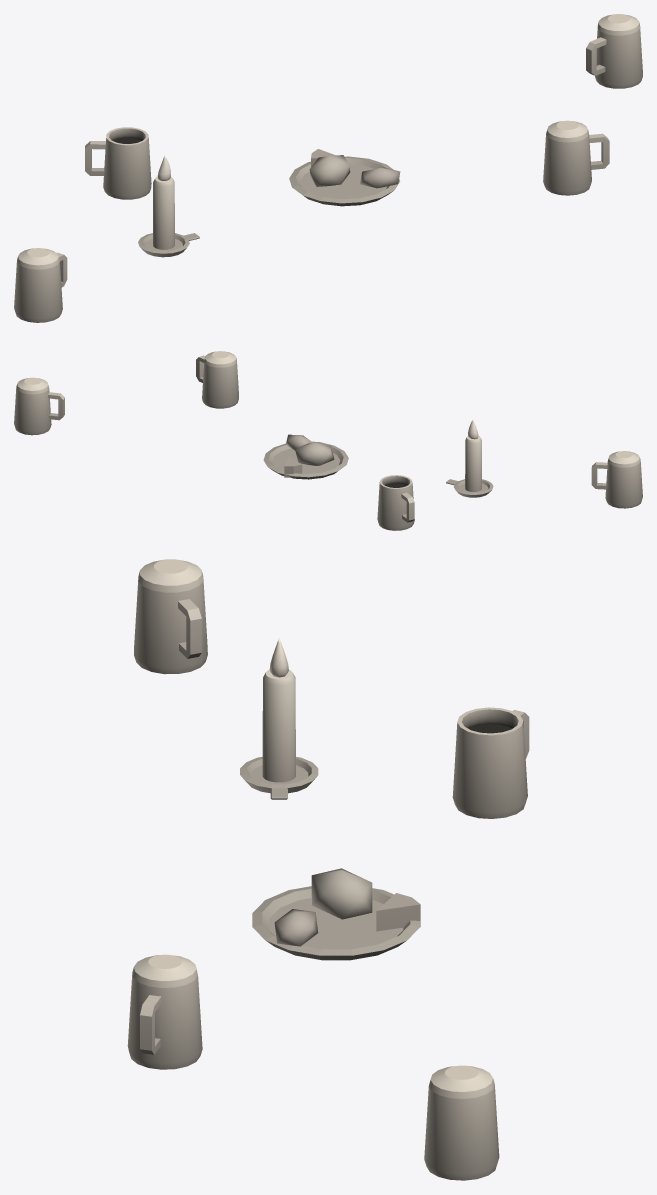
Rendered from SM_VKI_Prop_TableDress_Tavern_A.fbx.
3 renders of one model, top to bottom at view 1: azimuth 30°, elevation 25°; view 2: azimuth 150°, elevation 25°; view 3: azimuth 270°, elevation 25°, orthographic. The views are drawn at different scales.
Visible parts, largest first — view 1: SM_VKI_Prop_TableDress_Tavern_A.001; view 2: SM_VKI_Prop_TableDress_Tavern_A.001; view 3: SM_VKI_Prop_TableDress_Tavern_A.001.
Part boxes in pixels (left/top/right/bottom): SM_VKI_Prop_TableDress_Tavern_A.001: left=14, top=14, right=642, bottom=322; SM_VKI_Prop_TableDress_Tavern_A.001: left=14, top=351, right=642, bottom=530; SM_VKI_Prop_TableDress_Tavern_A.001: left=127, top=559, right=529, bottom=1180.
Bounding box in the file's own units: 2.23 × 0.277 × 0.7038.
